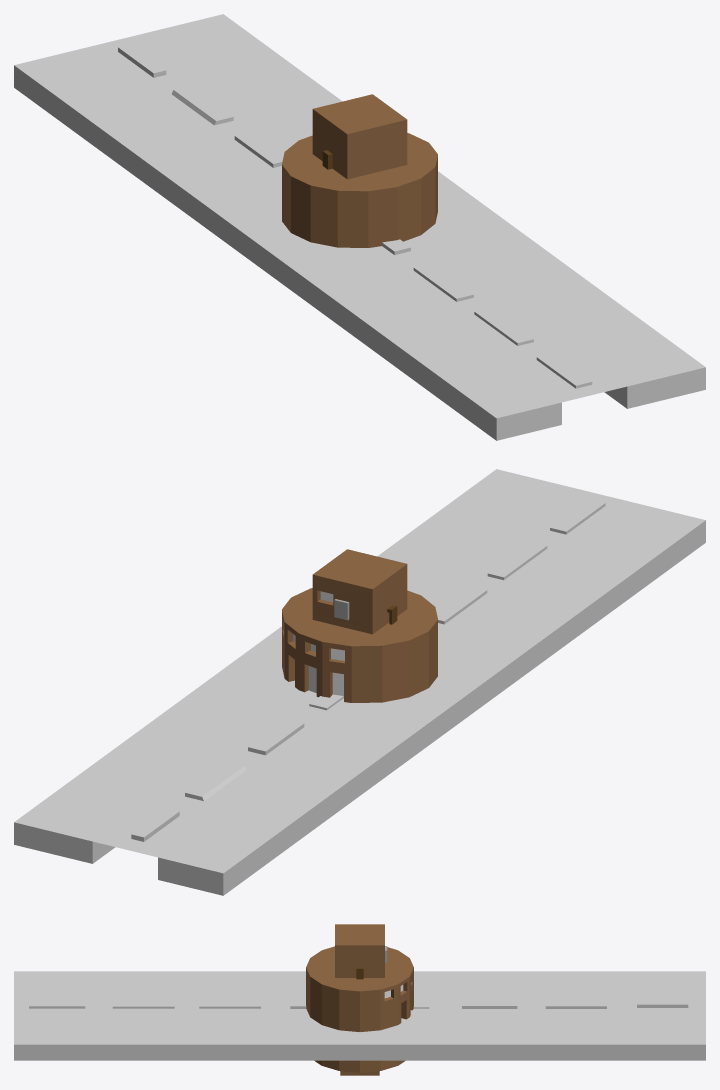
File: City2.fbx
3 renders of one model, top to bottom at view 1: azimuth 30°, elevation 25°; view 2: azimuth 150°, elevation 25°; view 3: azimuth 270°, elevation 25°, orthographic. The views are drawn at different scales.
Parts seen in each view (by area): view 1: Plane, Cylinder, Cube; view 2: Plane, Cylinder, Cube; view 3: Plane, Cylinder, Cube, Cube.002.
Boxes of the visible parts, box(x1,y1,x2,y2) form: Plane: box(14, 14, 705, 440); Cylinder: box(282, 133, 437, 247); Cube: box(312, 94, 407, 179); Plane: box(14, 469, 705, 895); Cylinder: box(282, 588, 437, 702); Cube: box(312, 549, 407, 634); Plane: box(14, 971, 705, 1060); Cylinder: box(306, 946, 413, 1072); Cube: box(335, 924, 384, 977); Cube.002: box(340, 961, 379, 1075).
Bounding box in the file's own units: 2343 × 1982 × 9349.
